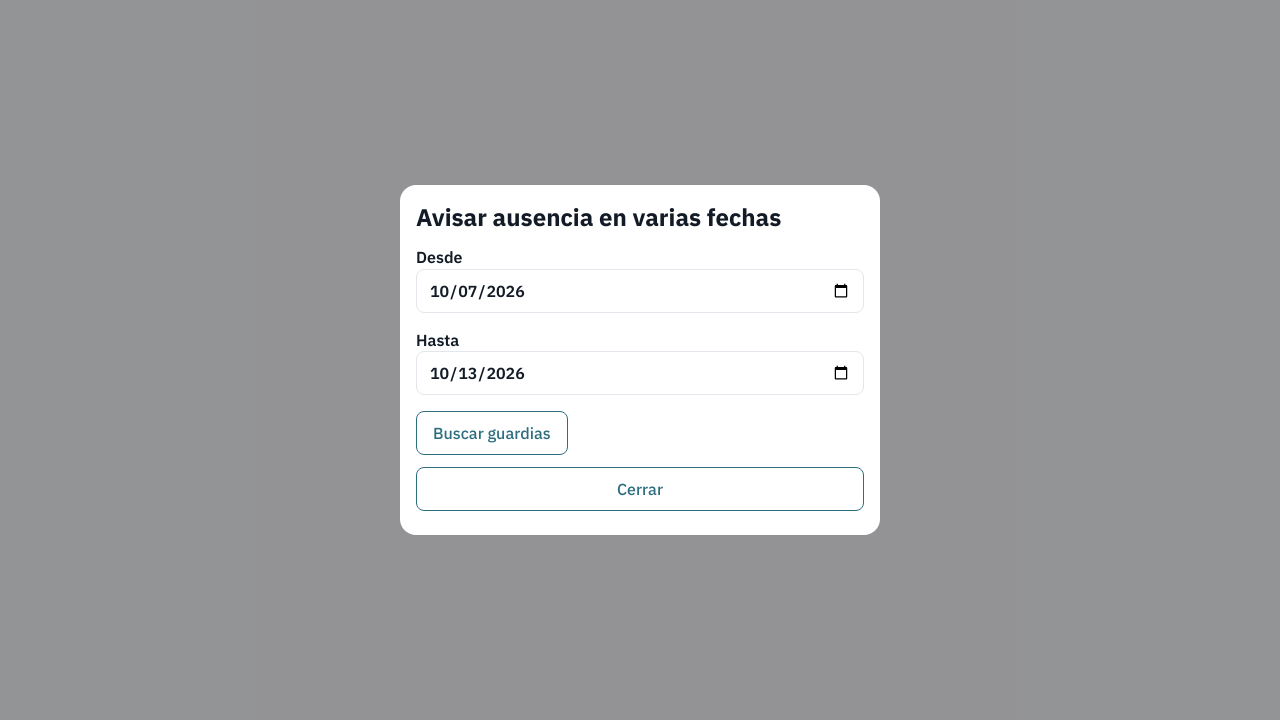
Test: AusenciaVarios › el coordinador ve las guardias de todos con el nombre del titular
Click the button "Buscar guardias": (492, 433) [416, 411, 568, 455]
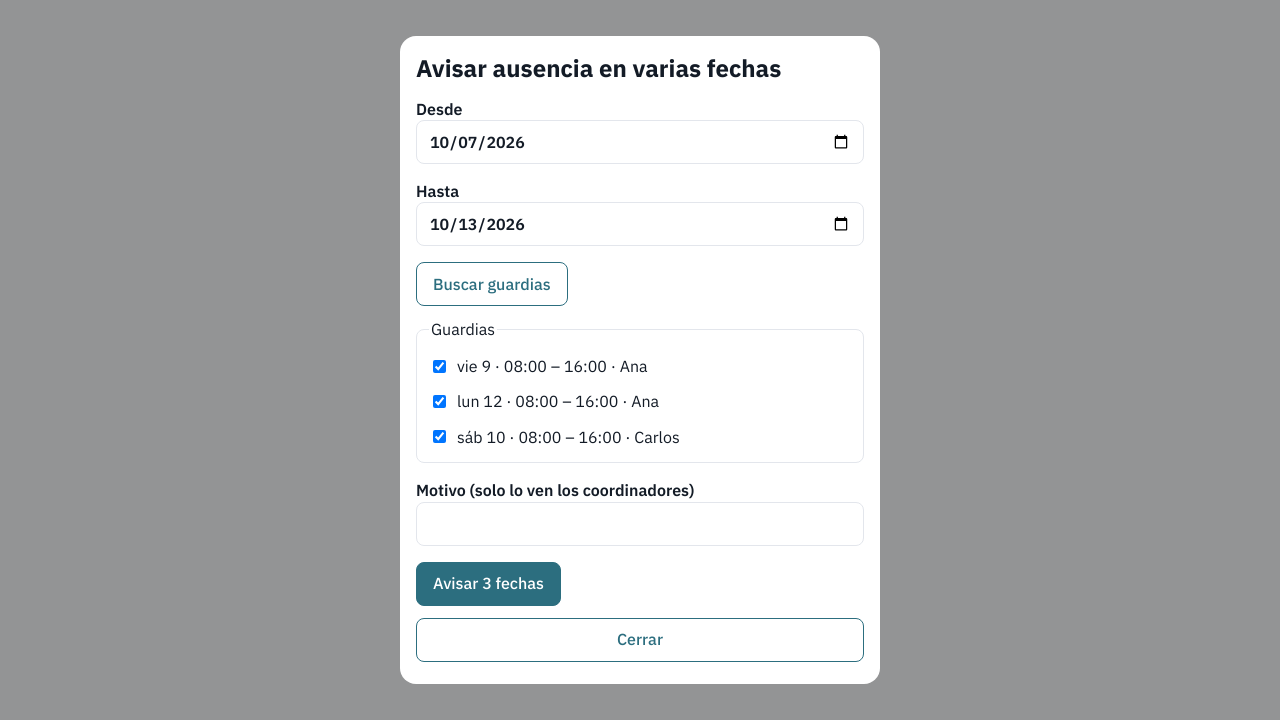
Now the number of checkboxes is 3, box [433, 360, 446, 373]; [433, 395, 446, 408]; [433, 430, 446, 443]
Now the text "sáb 10 · 08:00 – 16:00 · Carlos" is shown, box [457, 426, 680, 448]
